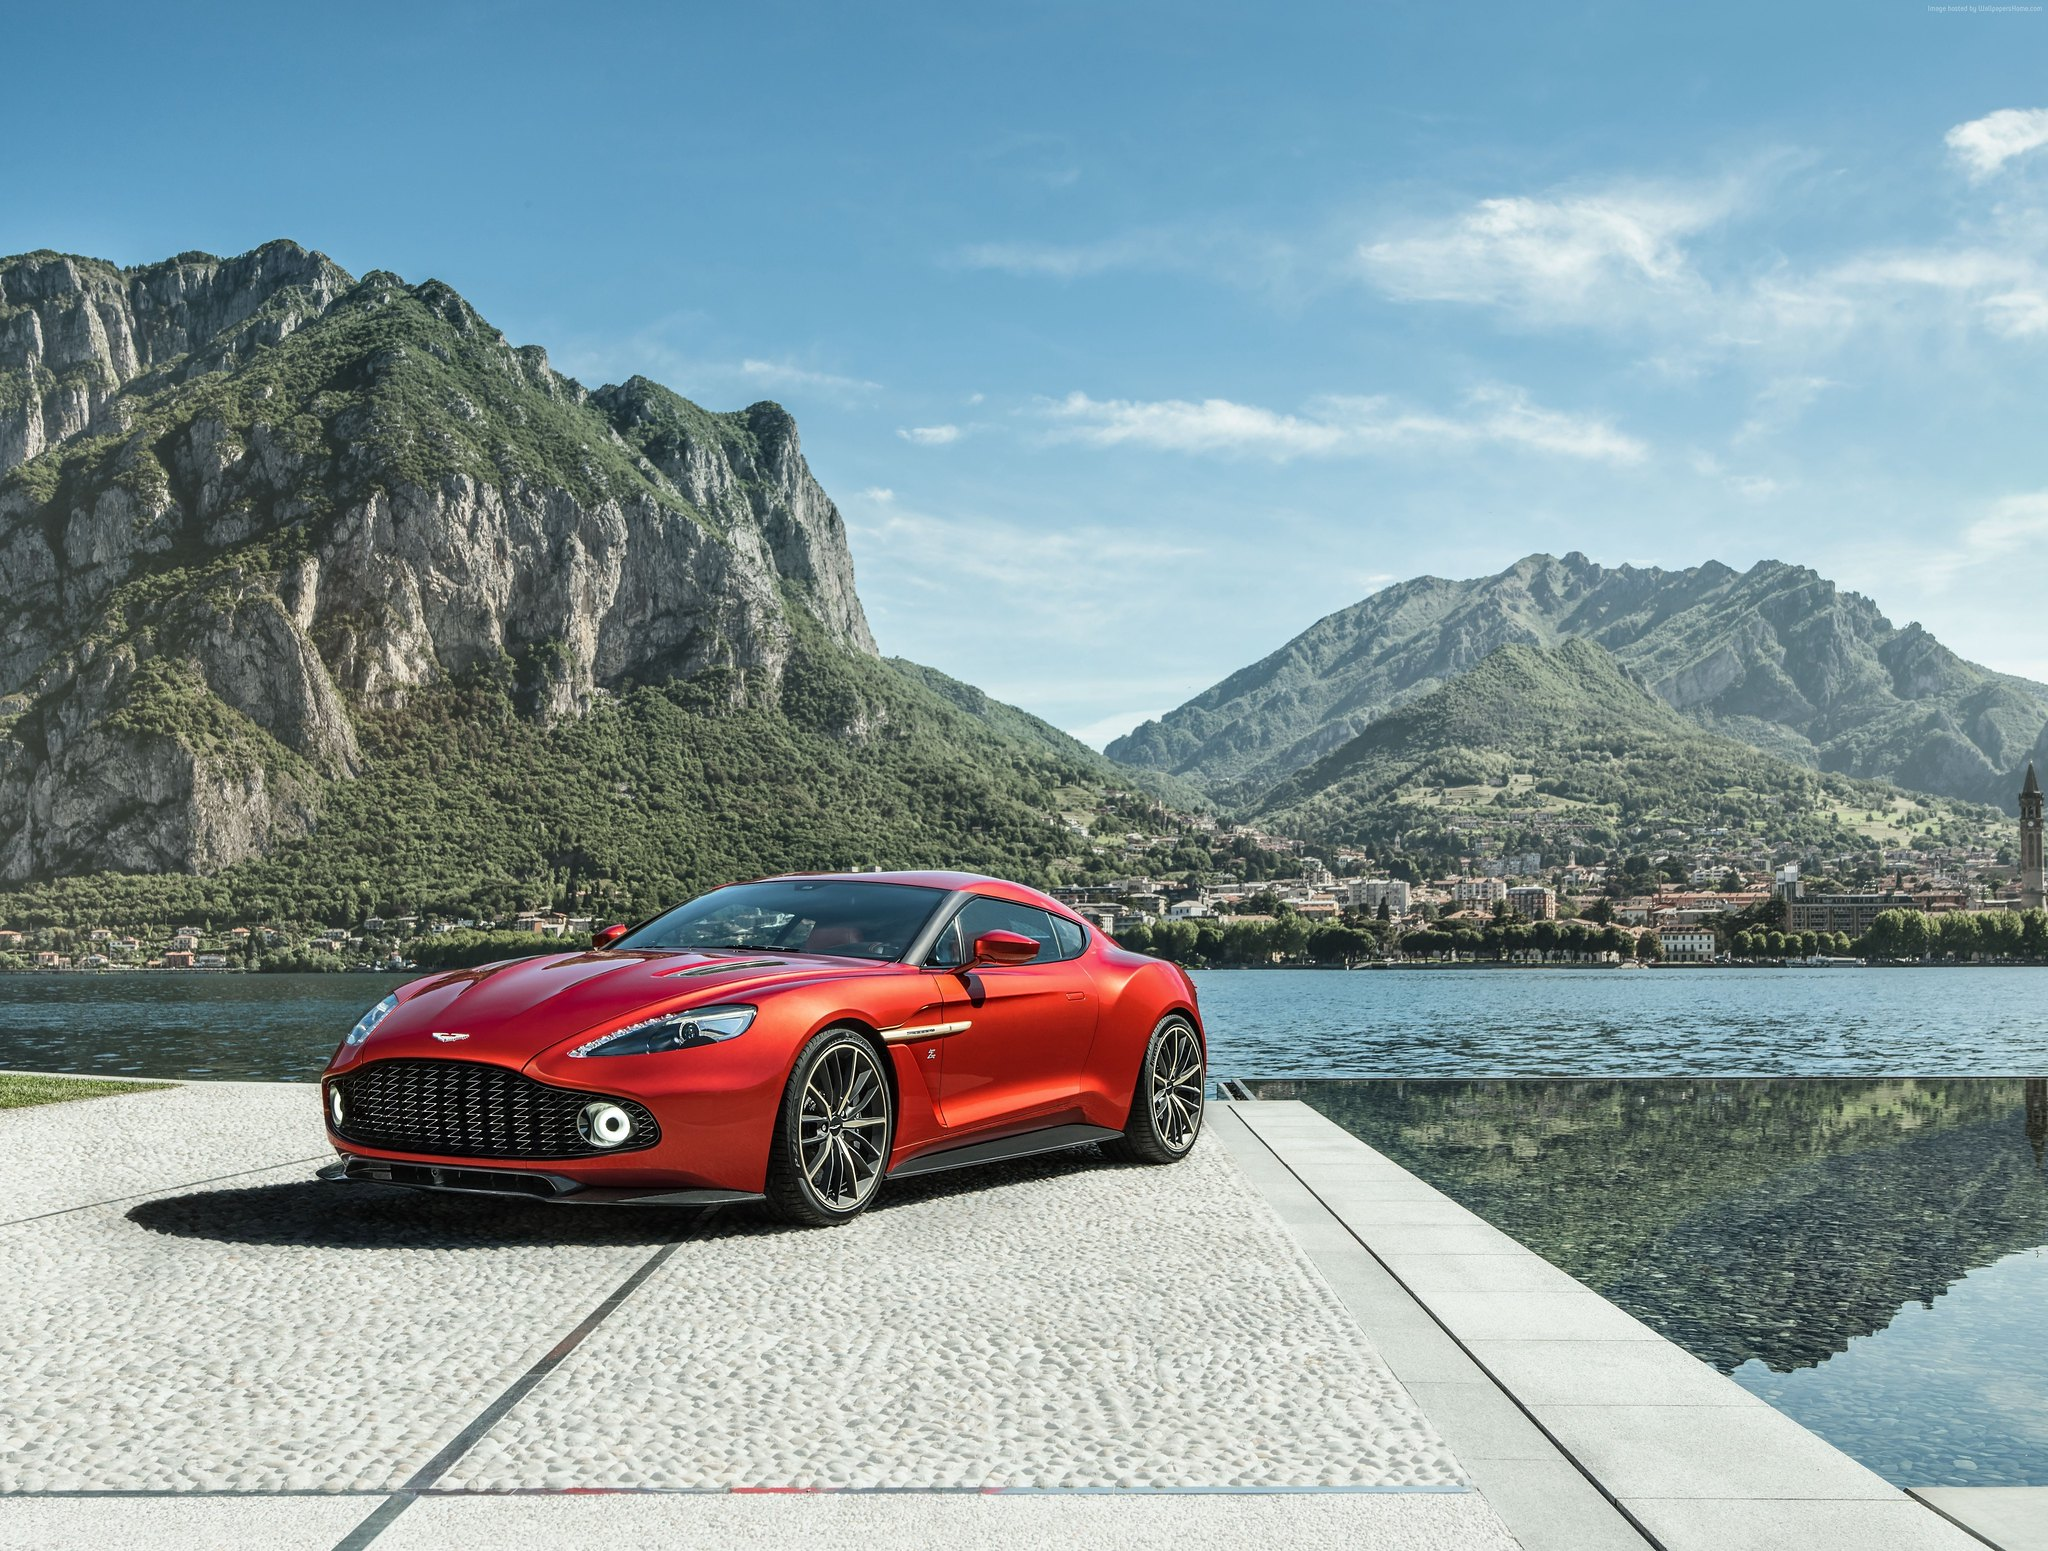car: (323, 842, 1282, 1191)
